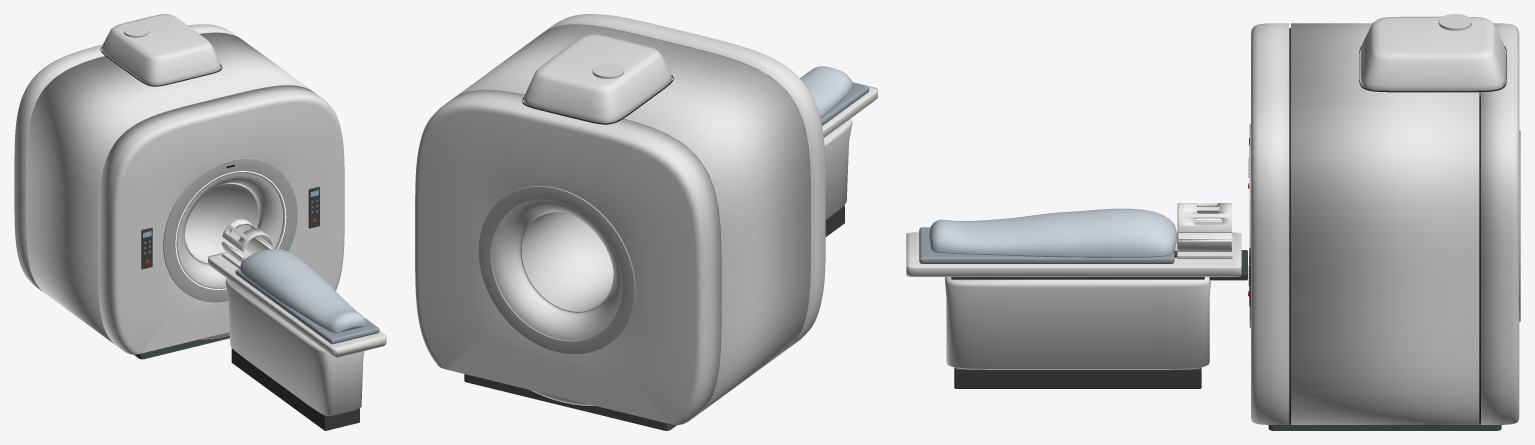
File: scanner.glb
3 views of the same model, side by side, from view 1: azimuth 30°, elevation 25°; view 2: azimuth 150°, elevation 25°; view 3: azimuth 270°, elevation 25° (orthographic). The views are drawn at different scales.
Visible parts, largest first — view 1: Cover_shroud, Table_pedestal, Turret_cover, Patient_blanket, Bore_bezel, Bore_liner, Cradle, Table_kick, Mattress, HeadCoil_anterior, Plinth, HeadCoil_posterior (+3 smaller); view 2: Cover_shroud, Turret_cover, Bore_liner, Bore_bezel_rear, Table_pedestal, Patient_blanket, Plinth, Cradle, Mattress; view 3: Cover_shroud, Table_pedestal, Patient_blanket, Turret_cover, Cradle, Table_kick, Mattress, HeadCoil_anterior, Plinth, HeadCoil_posterior, Seam_backer_front, Table_carriage (+1 smaller).
Part boxes in pixels (left/top/right/bottom): Cover_shroud: left=14, top=24, right=344, bottom=354; Table_pedestal: left=225, top=278, right=364, bottom=415; Turret_cover: left=101, top=14, right=220, bottom=85; Patient_blanket: left=240, top=249, right=366, bottom=333; Bore_bezel: left=163, top=158, right=297, bottom=302; Bore_liner: left=184, top=183, right=259, bottom=263; Cradle: left=208, top=249, right=386, bottom=357; Table_kick: left=231, top=348, right=359, bottom=430; Mattress: left=235, top=269, right=379, bottom=344; HeadCoil_anterior: left=222, top=219, right=273, bottom=251; Plinth: left=134, top=335, right=229, bottom=359; HeadCoil_posterior: left=221, top=237, right=272, bottom=262; Cover_shroud: left=415, top=14, right=825, bottom=424; Turret_cover: left=523, top=34, right=671, bottom=123; Bore_liner: left=521, top=211, right=613, bottom=312; Bore_bezel_rear: left=478, top=186, right=635, bottom=353; Table_pedestal: left=823, top=118, right=852, bottom=219; Patient_blanket: left=800, top=66, right=853, bottom=118; Plinth: left=464, top=374, right=676, bottom=430; Cradle: left=822, top=82, right=877, bottom=137; Mattress: left=820, top=82, right=869, bottom=125; Cover_shroud: left=1251, top=23, right=1519, bottom=424; Table_pedestal: left=945, top=277, right=1210, bottom=369; Patient_blanket: left=929, top=208, right=1177, bottom=257; Turret_cover: left=1360, top=16, right=1505, bottom=96; Cradle: left=906, top=232, right=1241, bottom=276; Table_kick: left=954, top=367, right=1201, bottom=388; Mattress: left=919, top=227, right=1174, bottom=263; HeadCoil_anterior: left=1177, top=203, right=1231, bottom=232; Plinth: left=1268, top=424, right=1501, bottom=430; HeadCoil_posterior: left=1177, top=220, right=1231, bottom=251; Seam_backer_front: left=1289, top=28, right=1290, bottom=423; Table_carriage: left=951, top=277, right=1204, bottom=279.
Size of the model in its own units: 2.24 by 2.42 by 3.85.
